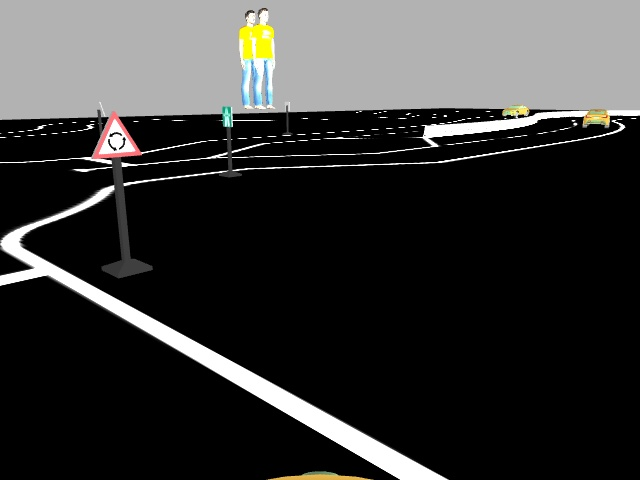HighwayEntrance: (218, 103, 234, 128)
Roundabout: (88, 110, 142, 159)
